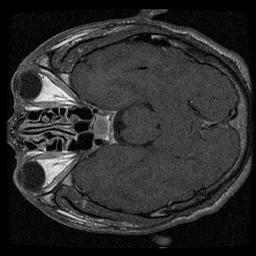pituitary tumour: (88, 112, 111, 142)
